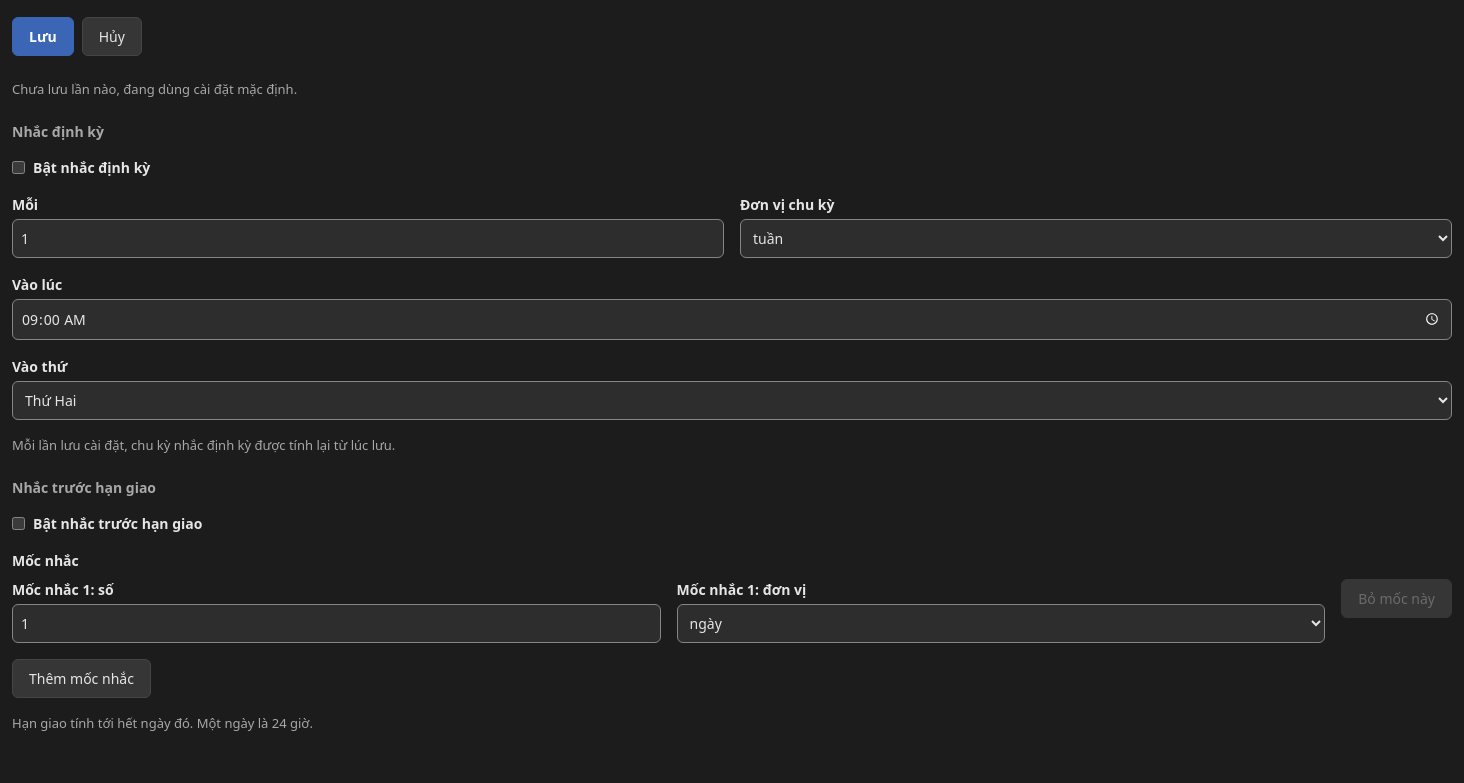
Test: page reminder_settings: the rows of "Mốc nhắc" › "Thêm mốc nhắc" adds a row (asking Services); at five rows it is disabled and "Bỏ mốc này" is enabled on every row
Step 1. Click the button "Thêm mốc nhắc" → x=81, y=678, box [12,658,151,698]
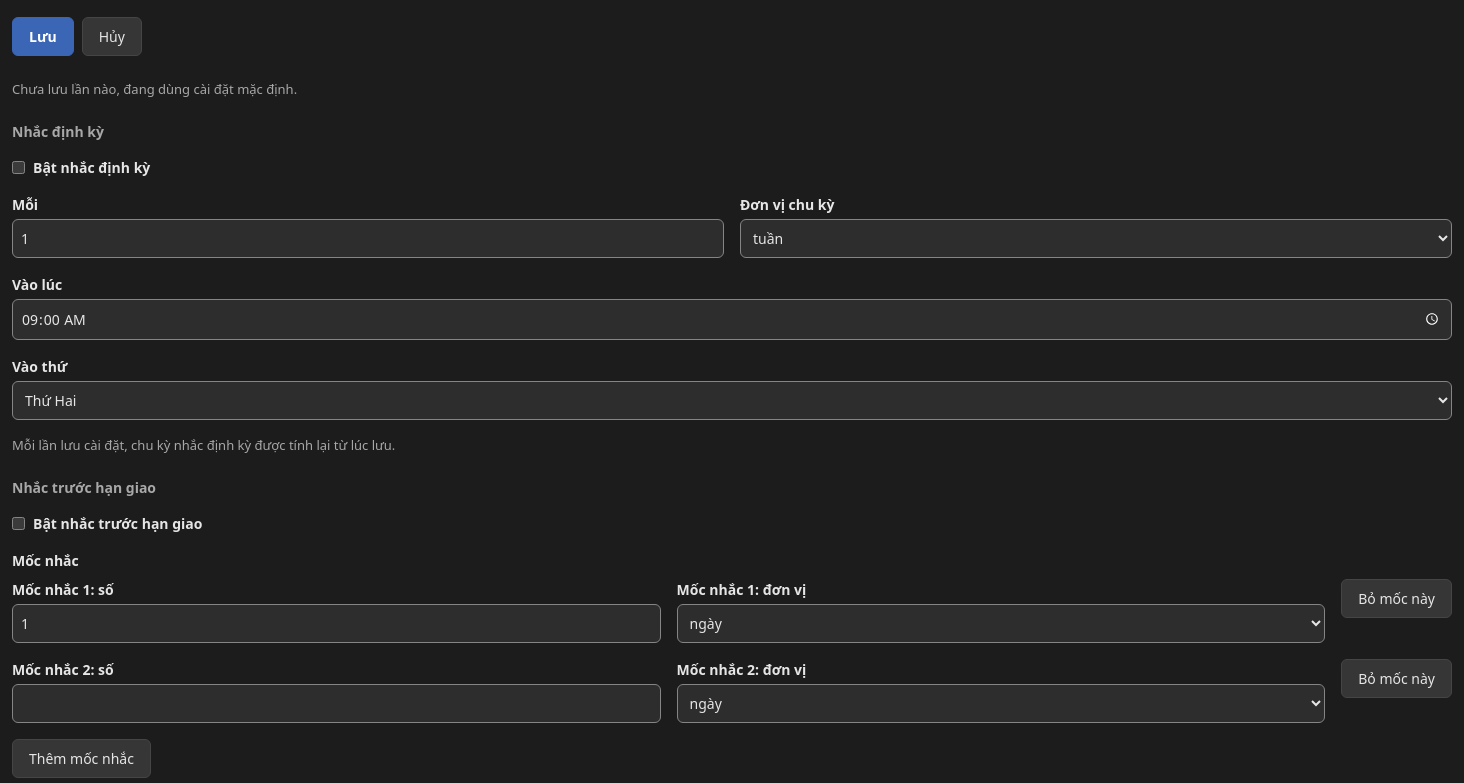
Step 2. Click the button "Thêm mốc nhắc" → x=81, y=758, box [12,738,151,778]
(page scrolled)
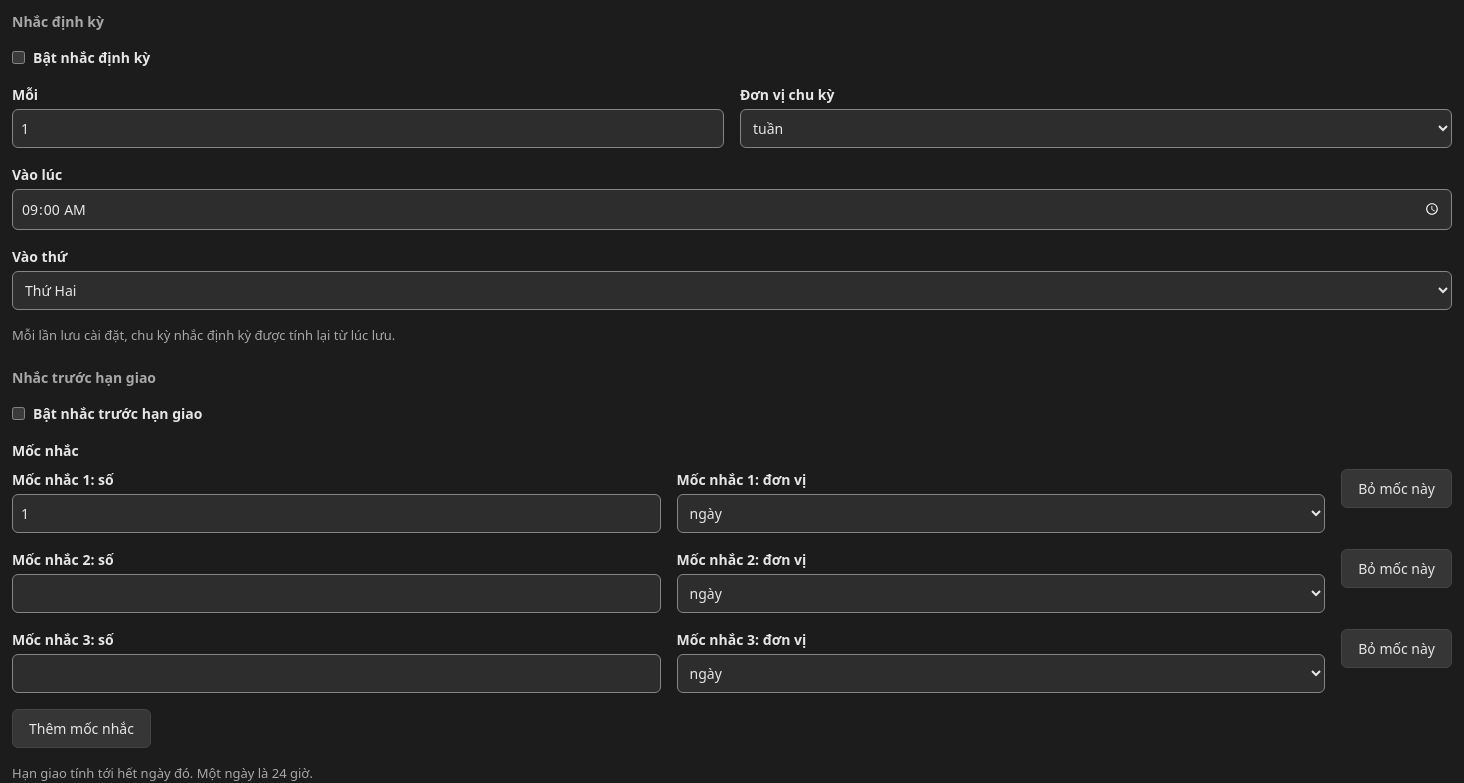
Step 3. Click the button "Thêm mốc nhắc" → x=81, y=728, box [12,708,151,748]
(page scrolled)
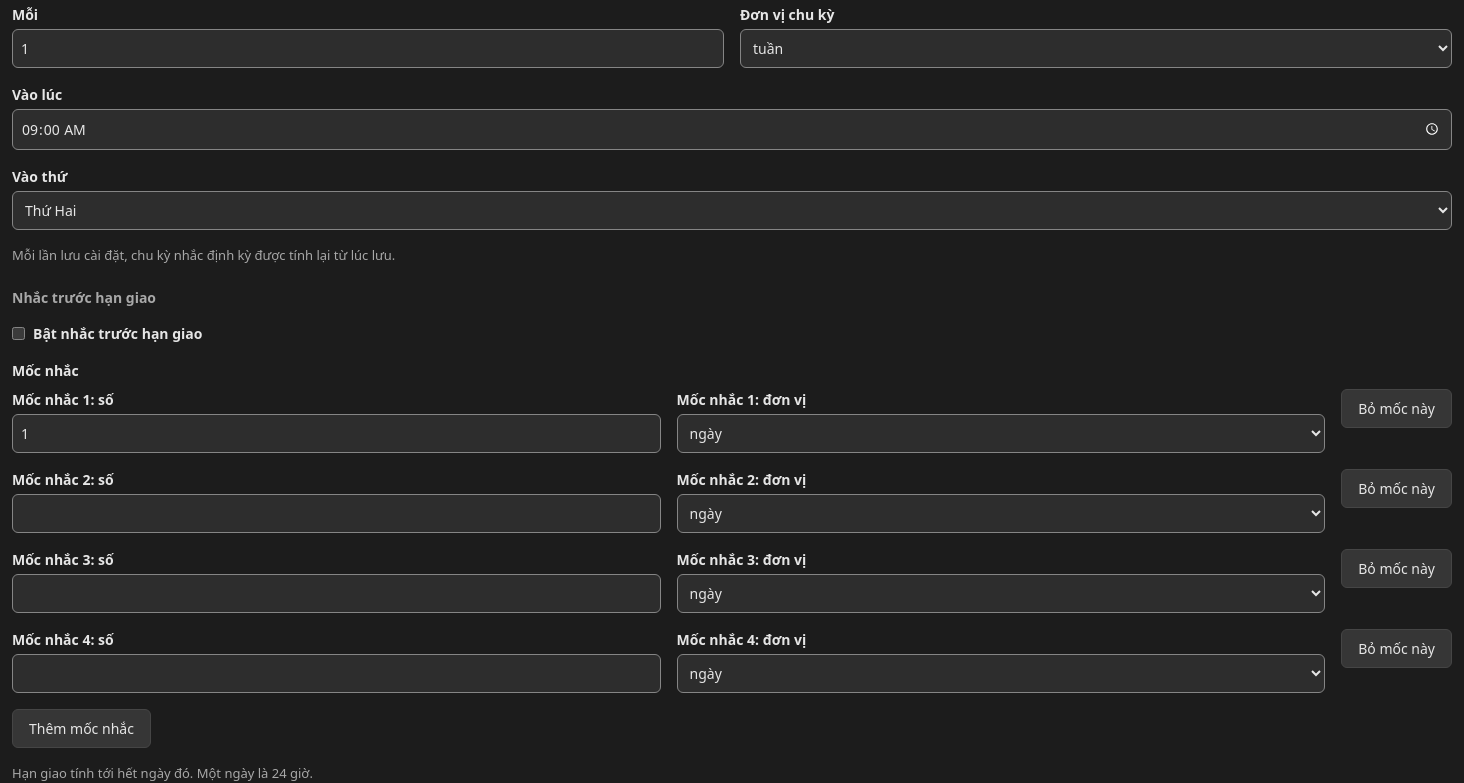
Step 4. Click the button "Thêm mốc nhắc" → x=81, y=728, box [12,708,151,748]
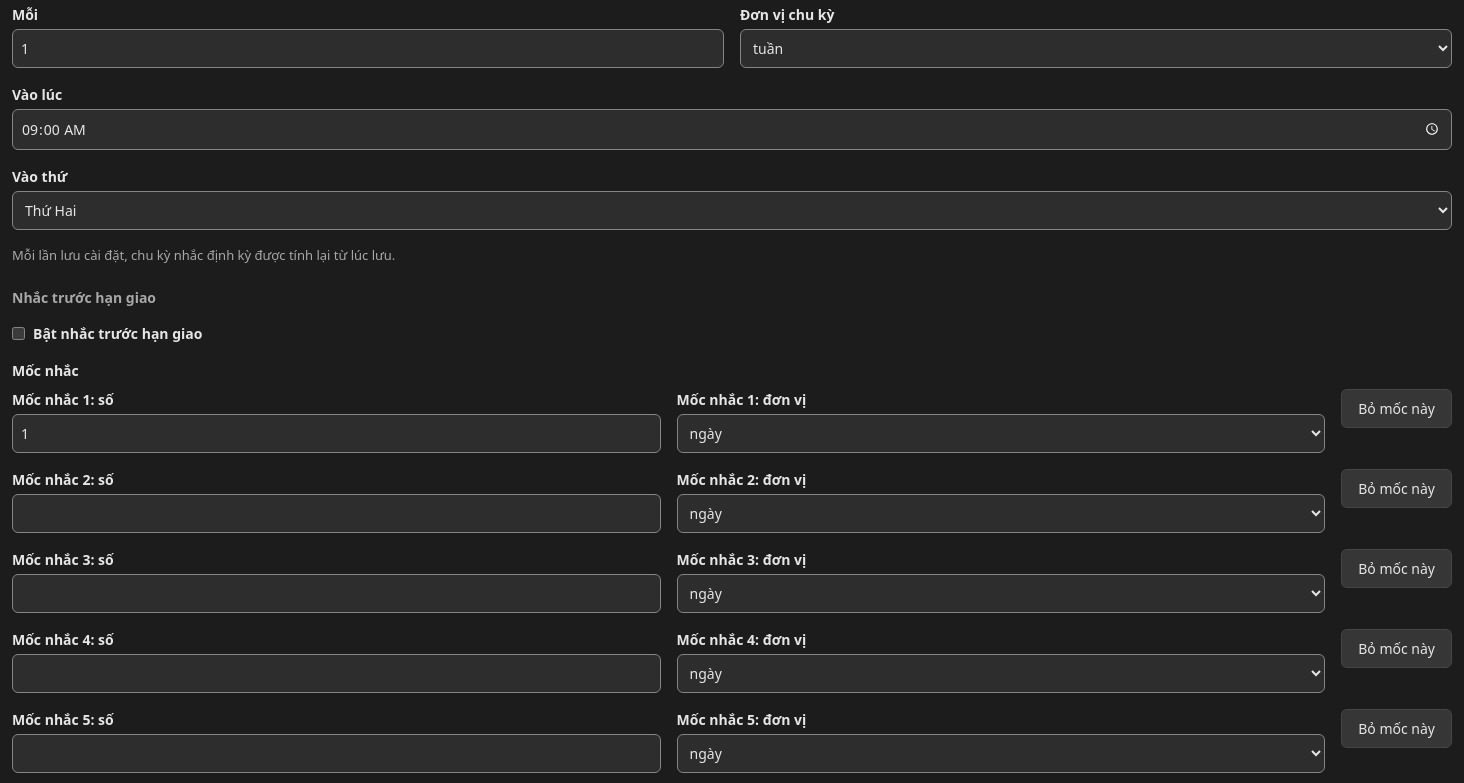
Result: the number of buttons "Bỏ mốc này" is 5 at [1341,388,1452,428]; [1341,468,1452,508]; [1341,548,1452,588]; [1341,628,1452,668]; [1341,708,1452,748]
Result: the field labelled "Mốc nhắc 5: số" is shown at [12,734,661,772]
